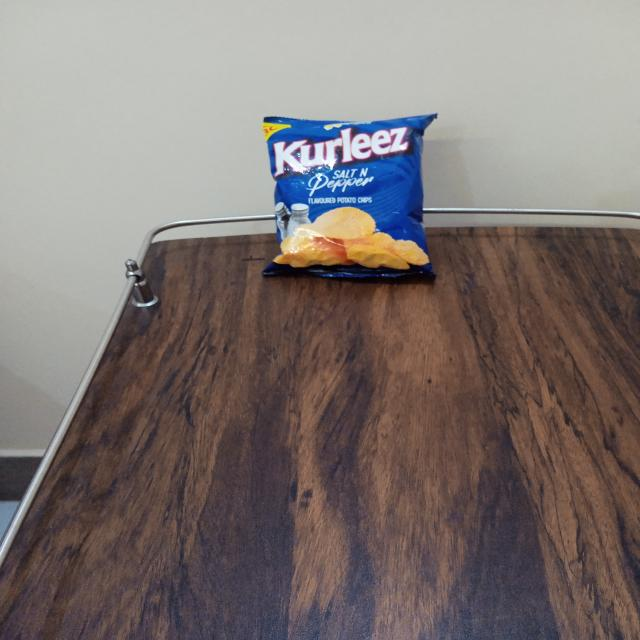Plastic: (264, 116, 430, 272)
